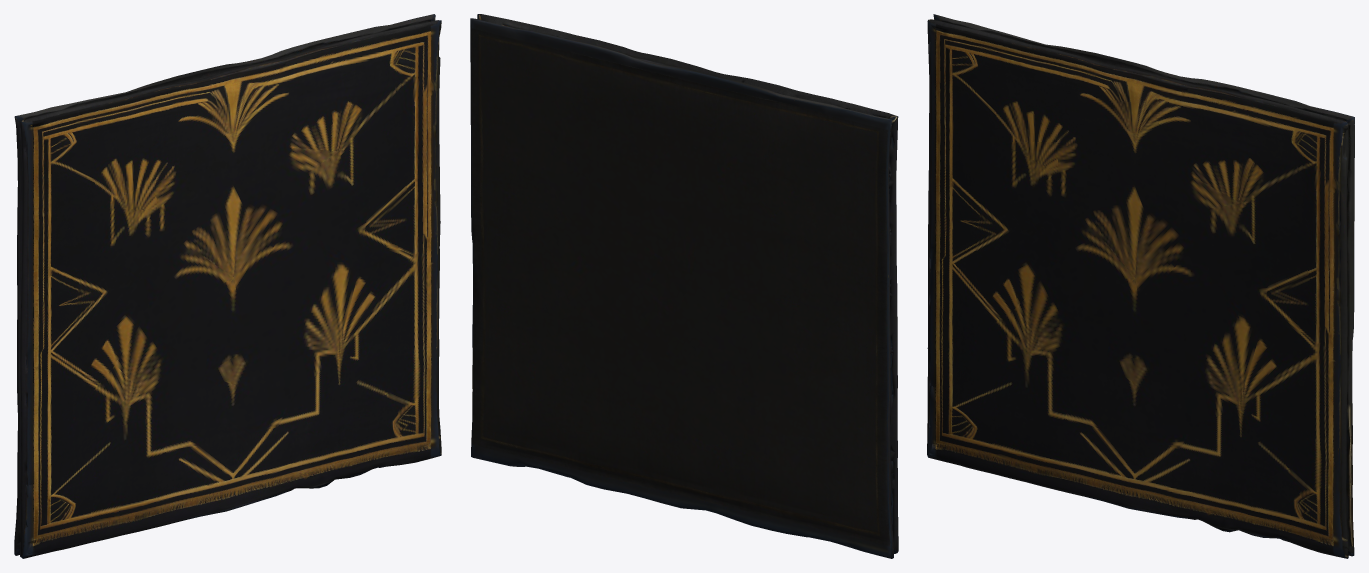
The model's file is Meshy_AI_A_luxurious_black_are_0224030504_texture.glb.
The picture shows the model from 3 angles, left to right: view 1: azimuth 30°, elevation 25°; view 2: azimuth 150°, elevation 25°; view 3: azimuth 330°, elevation 25°; orthographic projection.
Bounding box in the file's own units: 2 × 2 × 0.0865.
1 material, 1 textured.
